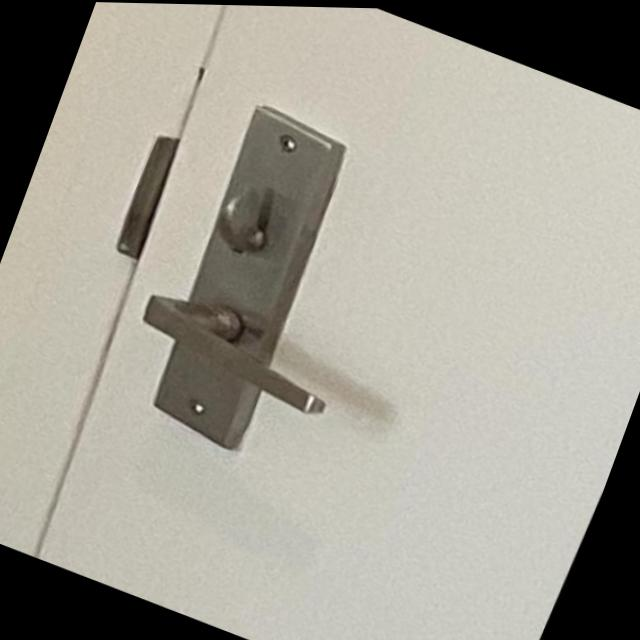door_handle: (107, 252, 382, 449)
